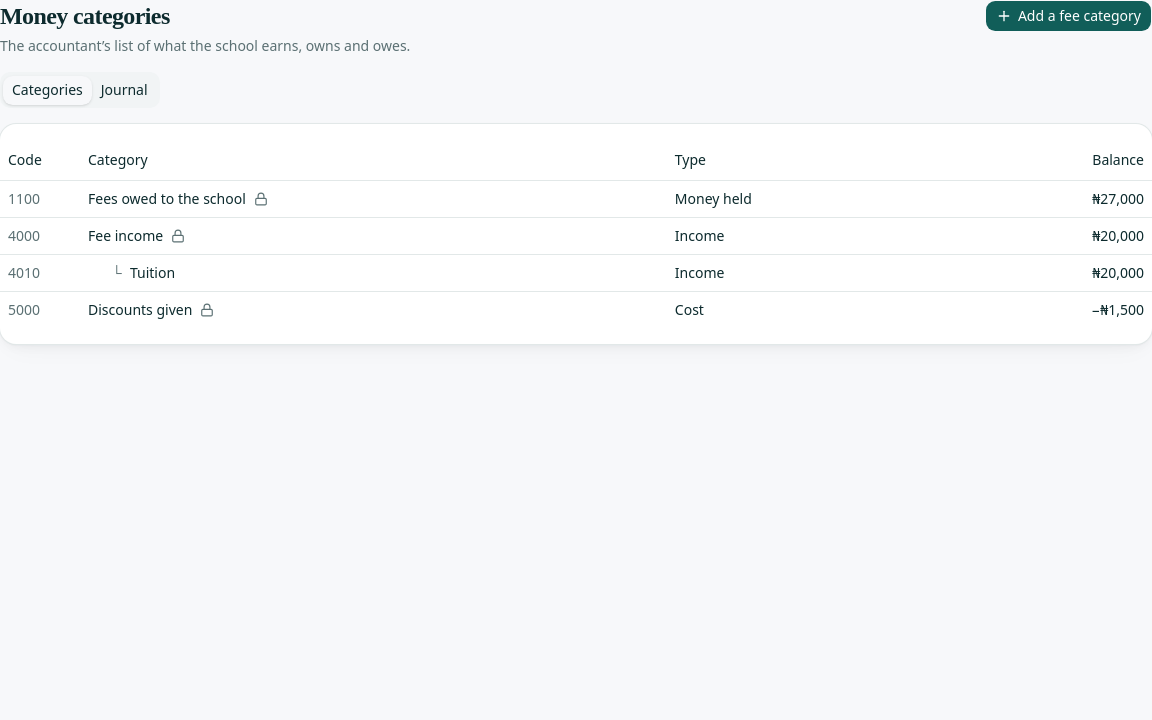
it: MoneyCategoriesPage adding a fee category › offers only Fee income as the parent and refuses a blank name
Step 1. Click the button "Add a fee category" → (1068, 16), box left=985, top=0, right=1151, bottom=32
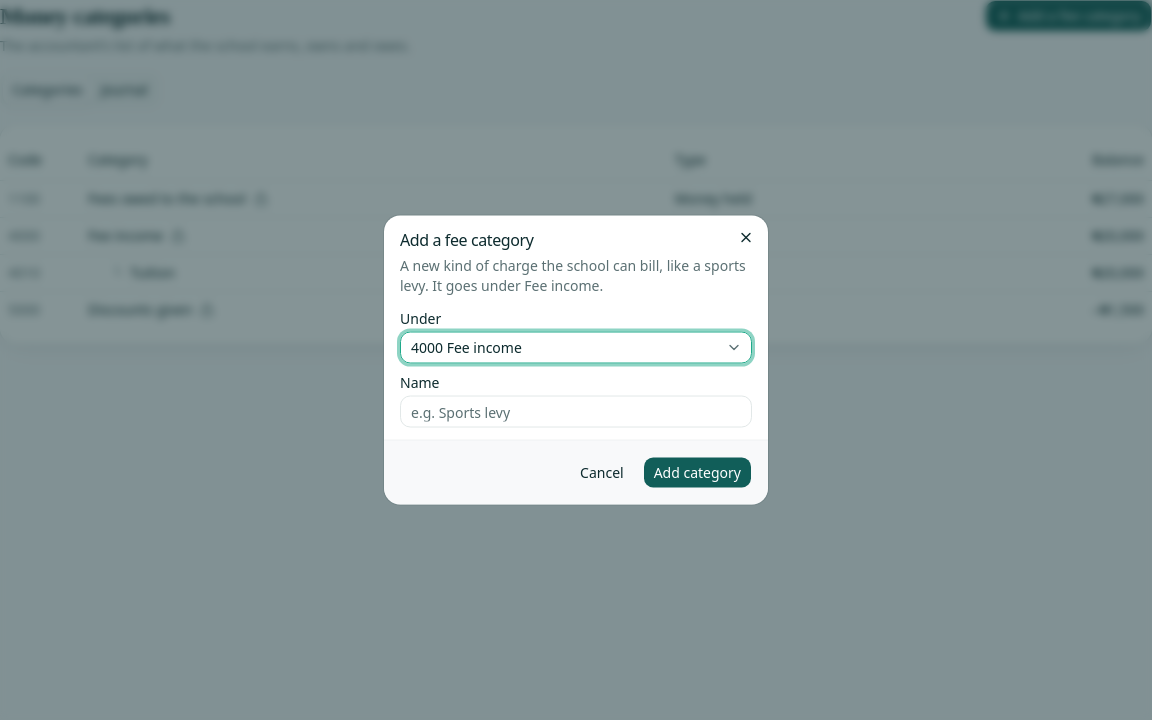
Step 2. Click the button "Add category" → (697, 472), box left=643, top=456, right=752, bottom=488
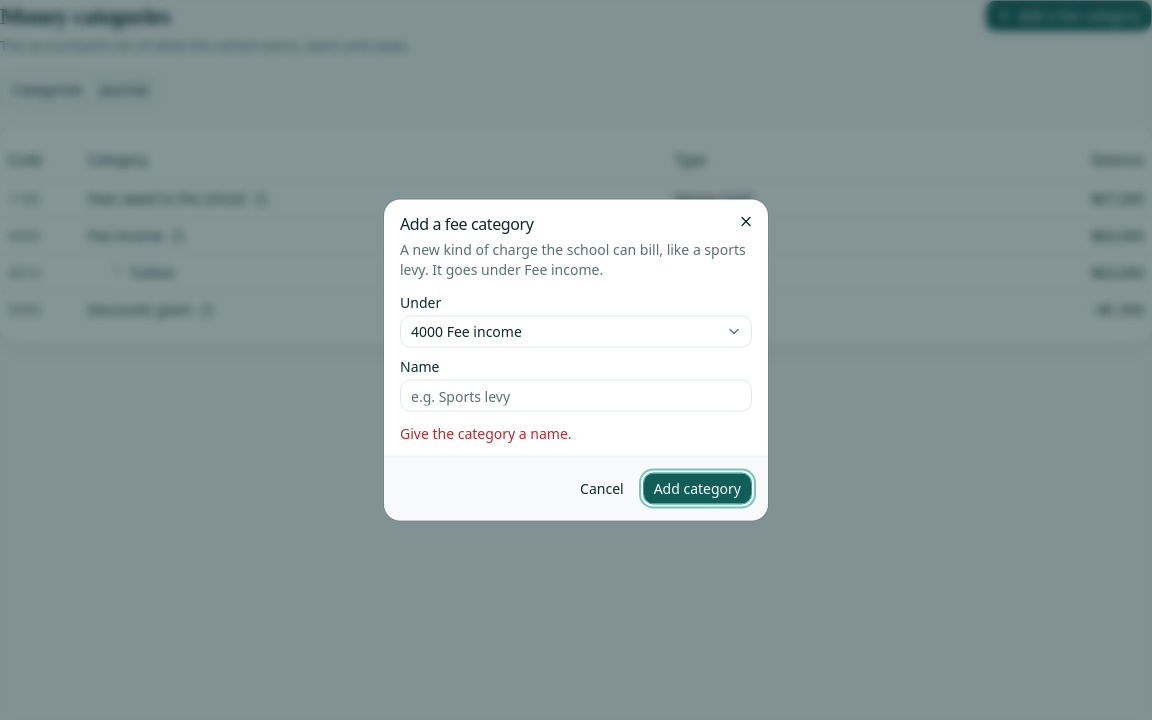
Now the text "Give the category a name." is shown, box left=400, top=424, right=572, bottom=442
